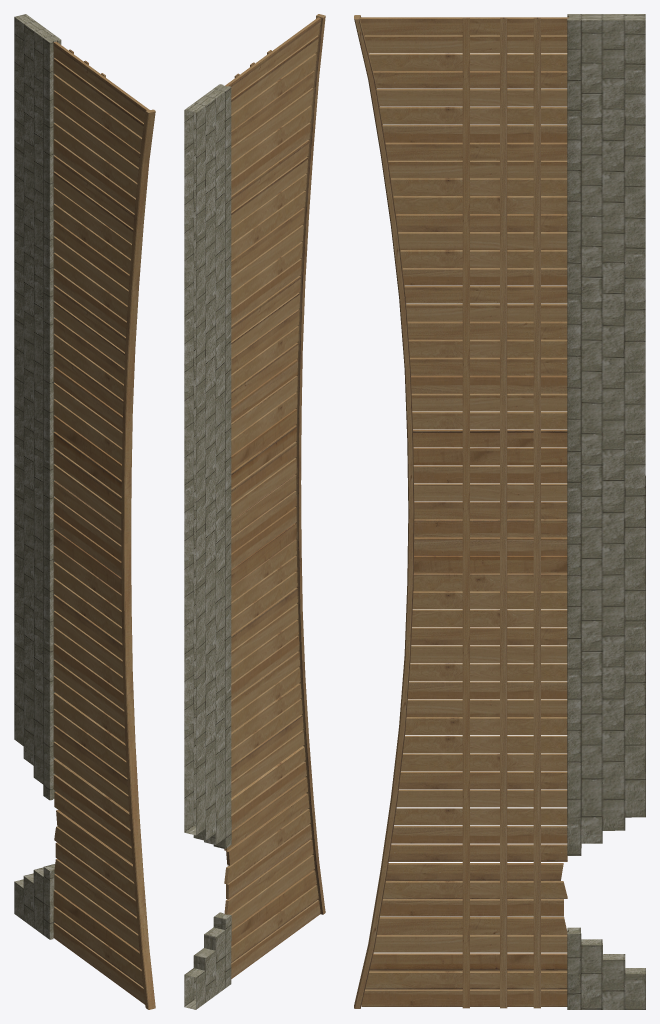
File: nt_concrete_fence_320_tall_dog_02_LOD0.obj
The picture shows the model from 3 angles, left to right: view 1: azimuth 30°, elevation 25°; view 2: azimuth 150°, elevation 25°; view 3: azimuth 270°, elevation 25°; orthographic projection. The views are drawn at different scales.
Parts seen in each view (by area): view 1: nt_wood_fence, nt_2020_concrete_pattern_02; view 2: nt_wood_fence, nt_2020_concrete_pattern_02; view 3: nt_wood_fence, nt_2020_concrete_pattern_02.
Boxes of the visible parts, x1,y1,x2,y2 form: nt_wood_fence: (53,41,155,1009); nt_2020_concrete_pattern_02: (14,14,61,939); nt_wood_fence: (224,14,325,978); nt_2020_concrete_pattern_02: (184,84,231,1009); nt_wood_fence: (354,15,568,1008); nt_2020_concrete_pattern_02: (567,14,645,1009).
Size of the model in its own units: 10.29 by 742 by 198.
